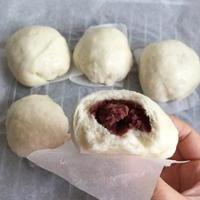biodegradable: (72, 89, 180, 158), (5, 24, 72, 89), (132, 39, 200, 102), (5, 93, 70, 158), (75, 23, 134, 85)
